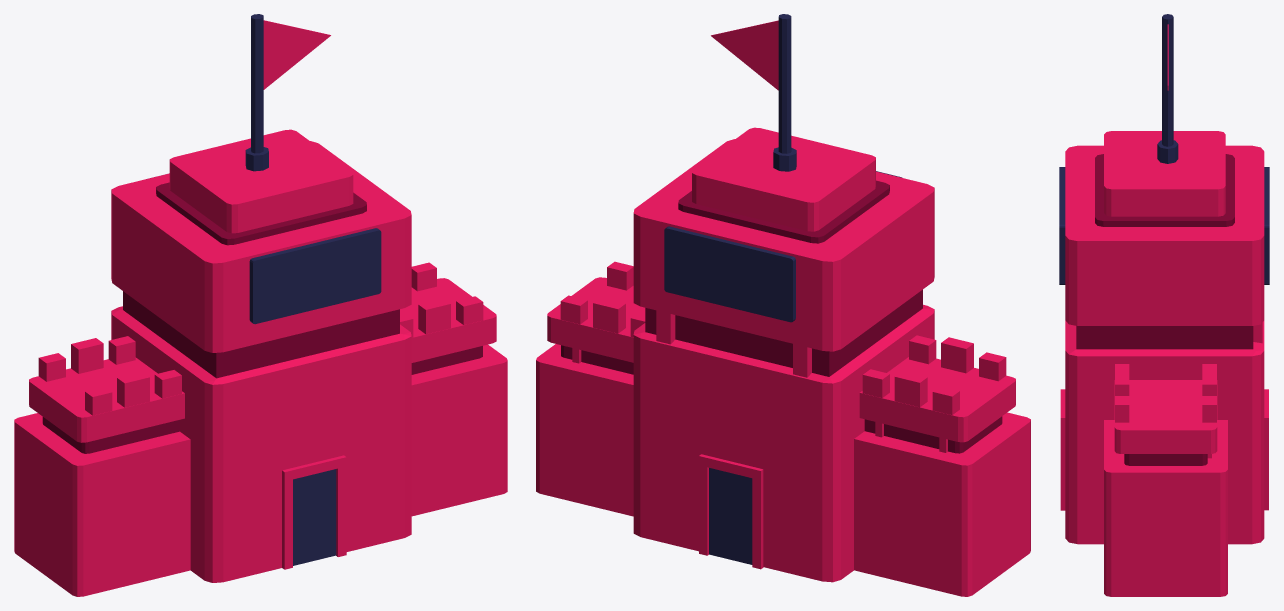
The model's file is RedBigHouse4.fbx.
The picture shows the model from 3 angles, left to right: view 1: azimuth 30°, elevation 25°; view 2: azimuth 150°, elevation 25°; view 3: azimuth 270°, elevation 25°; orthographic projection. The views are drawn at different scales.
Parts seen in each view (by area): view 1: Big_Red_House_1.003; view 2: Big_Red_House_1.003; view 3: Big_Red_House_1.003.
Part boxes in pixels (left/top/right/bottom): Big_Red_House_1.003: left=14, top=14, right=507, bottom=596; Big_Red_House_1.003: left=536, top=14, right=1030, bottom=596; Big_Red_House_1.003: left=1059, top=14, right=1269, bottom=596.
Size of the model in its own units: 0.6909 by 0.7677 by 0.3053.
1 material, 1 textured.
